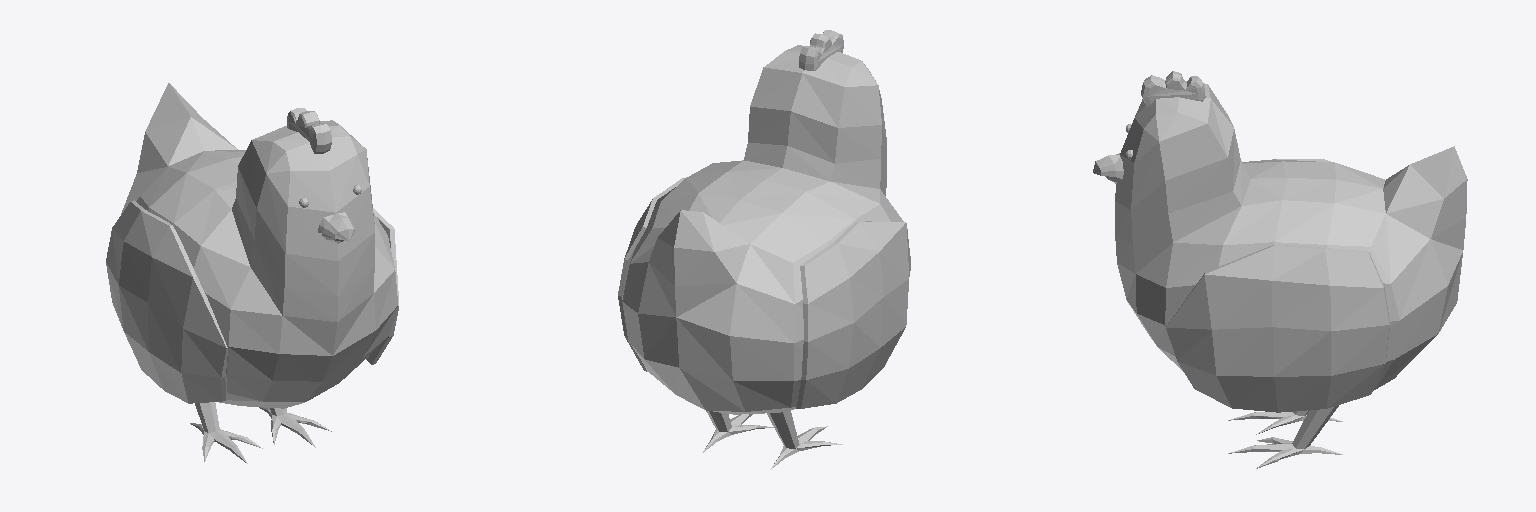
File: chicken.obj
3 renders of one model, left to right at view 1: azimuth 30°, elevation 25°; view 2: azimuth 150°, elevation 25°; view 3: azimuth 270°, elevation 25°, orthographic.
Parts seen in each view (by area): view 1: Hen_Cube; view 2: Hen_Cube; view 3: Hen_Cube.
Boxes of the visible parts, x1,y1,x2,y2 form: Hen_Cube: [106, 83, 398, 463]; Hen_Cube: [618, 30, 910, 469]; Hen_Cube: [1093, 71, 1467, 468].
Bounding box in the file's own units: 2.72 × 4.24 × 3.95.